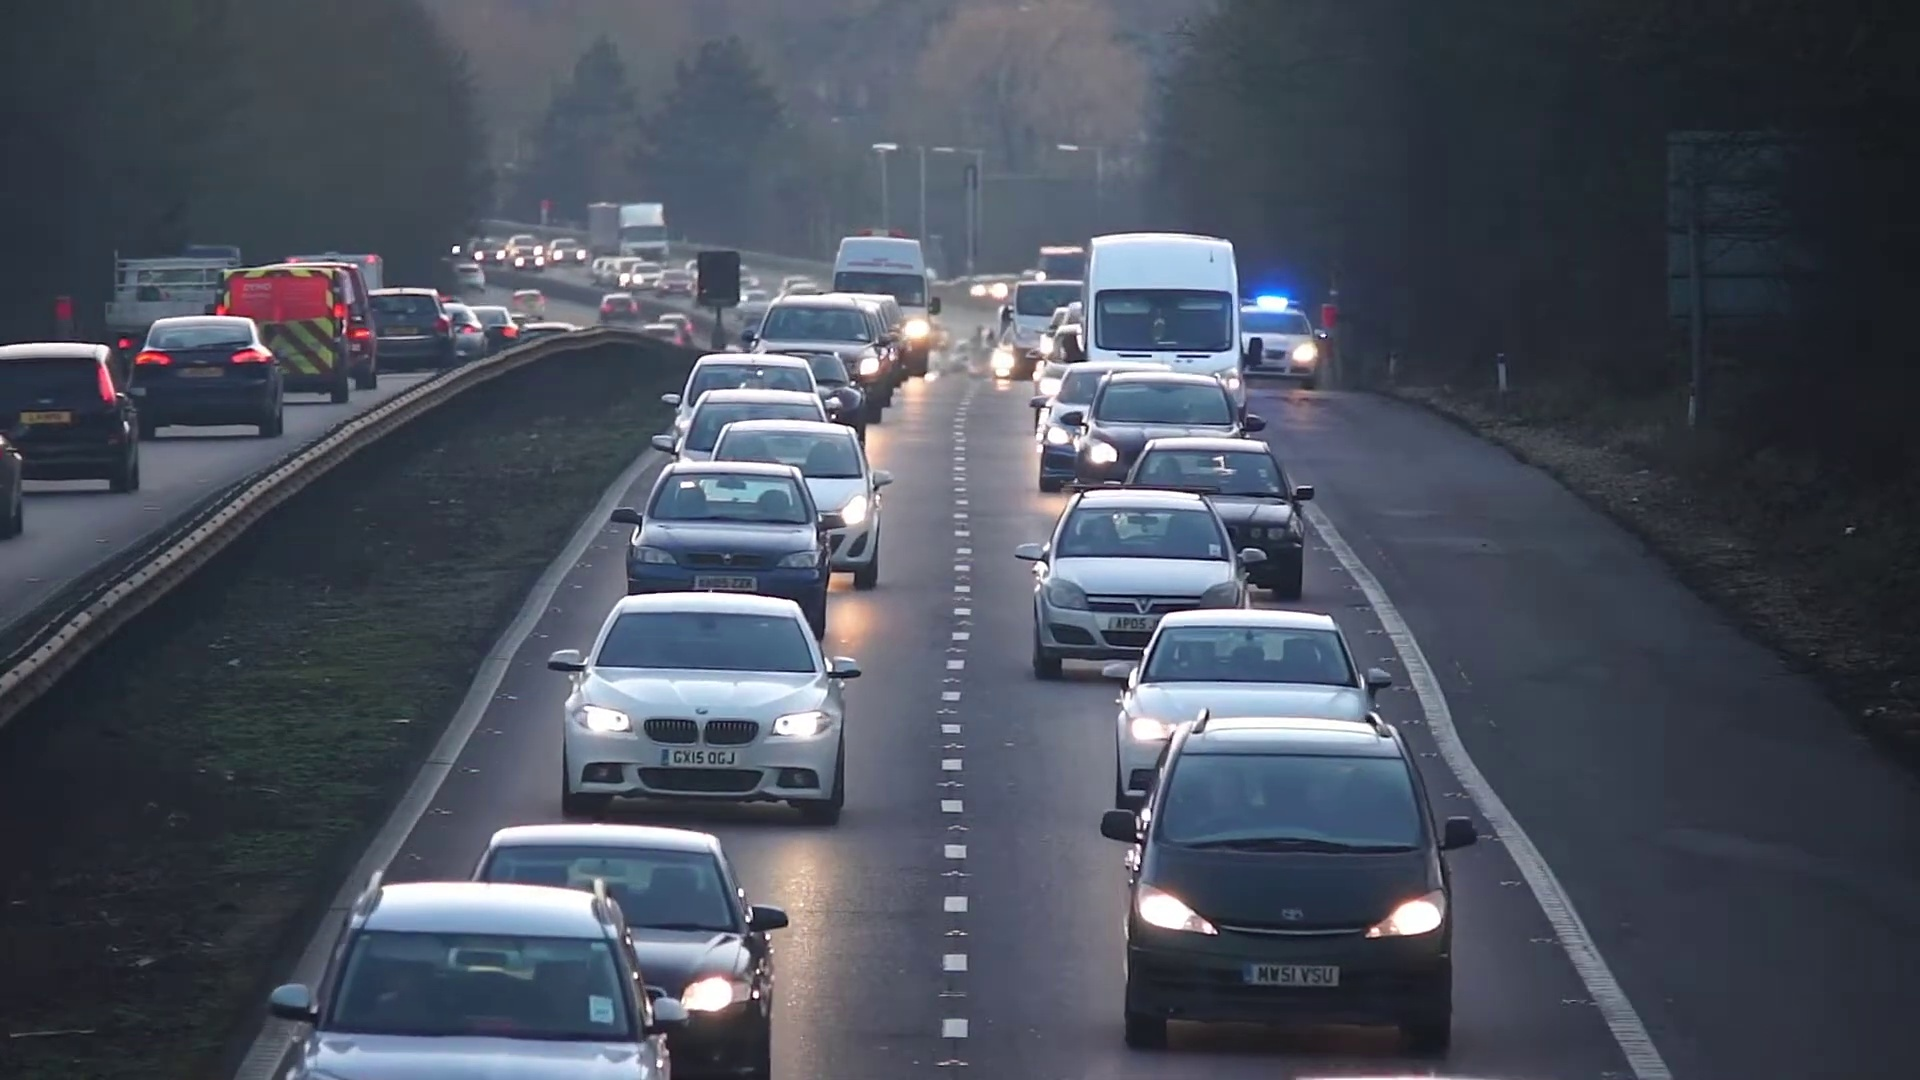license_plate: (1251, 960, 1347, 990), (657, 747, 741, 772), (689, 570, 760, 596), (1109, 612, 1157, 635)
